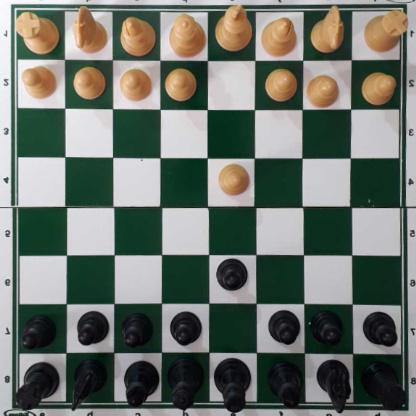black-bishop: (266, 363, 303, 411), (123, 362, 159, 409)
black-king: (213, 359, 251, 414)
black-knight: (71, 360, 106, 413), (317, 359, 350, 415)
black-pawn: (362, 312, 397, 349), (20, 317, 55, 351), (215, 260, 249, 295), (267, 311, 300, 346), (311, 313, 343, 349), (76, 312, 107, 349), (170, 313, 201, 349), (121, 314, 152, 349)
black-queen: (167, 360, 205, 411)
black-rook: (14, 365, 59, 412), (361, 363, 404, 411)
white-bishop: (119, 16, 154, 58), (261, 16, 296, 58)
white-king: (217, 5, 249, 55)
white-knight: (311, 5, 345, 55), (74, 6, 106, 55)
white-pawn: (19, 66, 58, 100), (360, 73, 396, 106), (118, 69, 151, 104), (216, 165, 250, 198), (263, 70, 296, 103), (307, 75, 339, 109), (165, 70, 197, 103), (73, 69, 105, 102)
white-queen: (169, 12, 204, 62)
white-rook: (14, 13, 59, 56), (363, 11, 408, 54)
